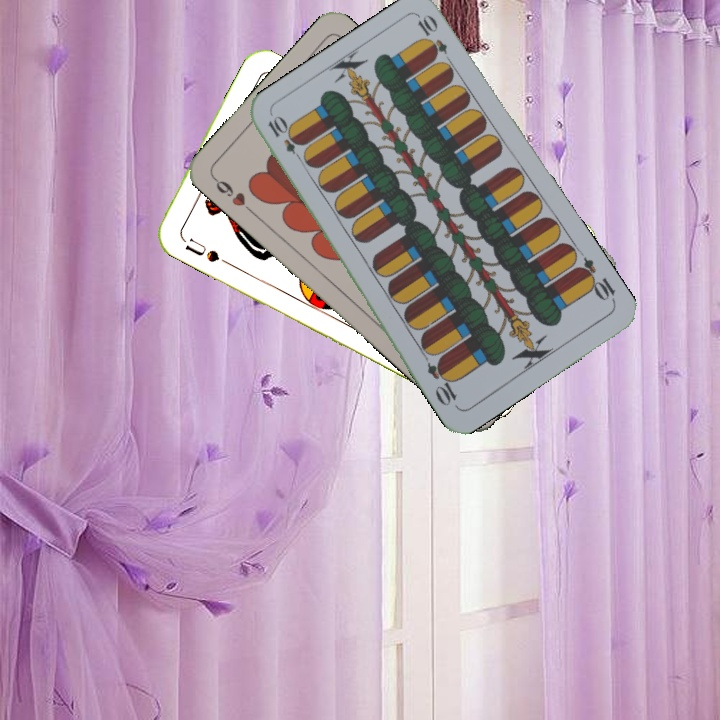E10: (263, 112, 308, 166), (572, 254, 618, 306)
H9: (209, 172, 257, 217)
SU: (177, 232, 222, 265)
